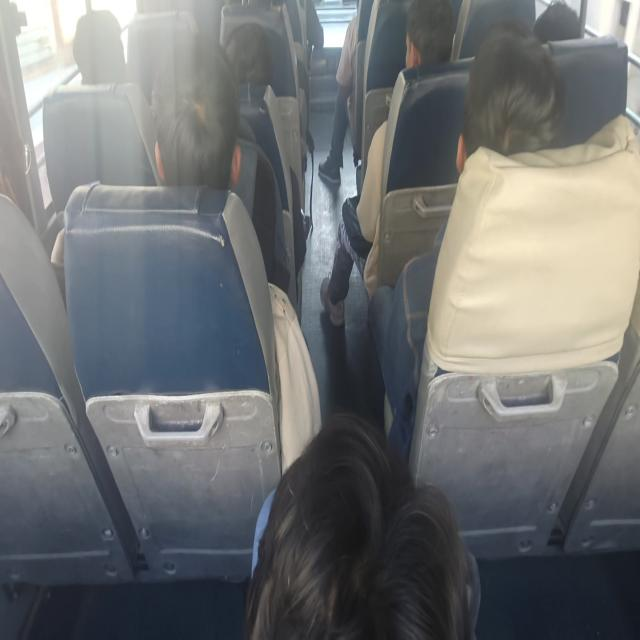person: (247, 432, 475, 640), (149, 42, 225, 188), (472, 47, 555, 170), (68, 13, 136, 90), (220, 8, 279, 88), (0, 104, 36, 209), (534, 5, 588, 72), (399, 6, 447, 78)
